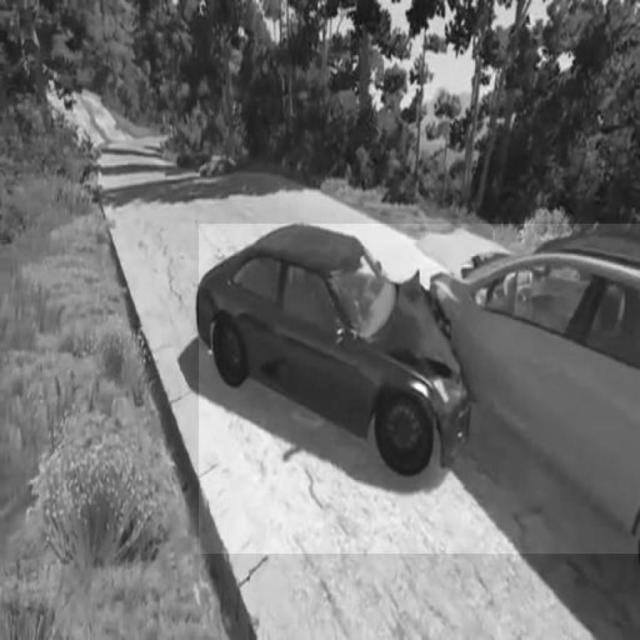accident: (199, 224, 640, 554)
